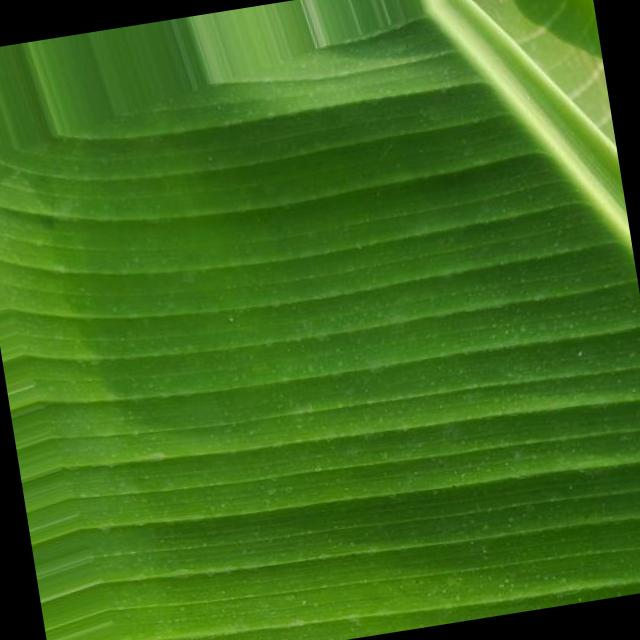Banana_Healthy: (54, 102, 590, 612)
